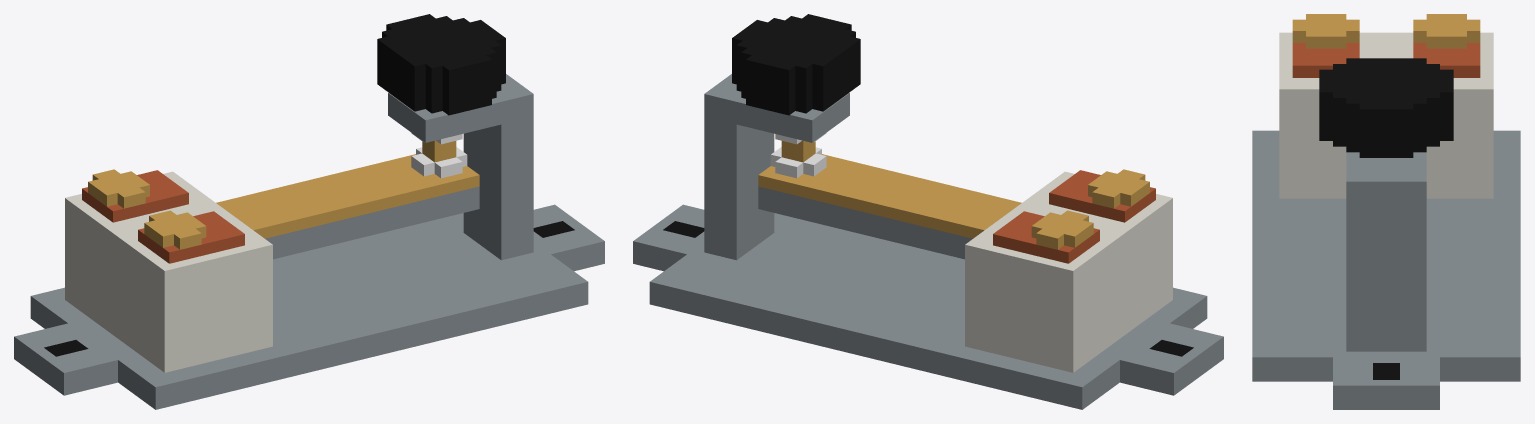
File: thermostat.glb
The picture shows the model from 3 angles, left to right: view 1: azimuth 30°, elevation 25°; view 2: azimuth 150°, elevation 25°; view 3: azimuth 270°, elevation 25°; orthographic projection. The views are drawn at different scales.
Visible parts, largest first — view 1: thermostat:compound; view 2: thermostat:compound; view 3: thermostat:compound.
Part boxes in pixels (x1=…): thermostat:compound: x1=14, y1=14, x2=604, y2=409; thermostat:compound: x1=633, y1=14, x2=1223, y2=409; thermostat:compound: x1=1252, y1=14, x2=1520, y2=409.
Size of the model in its own units: 0.1 by 0.042 by 0.04.
